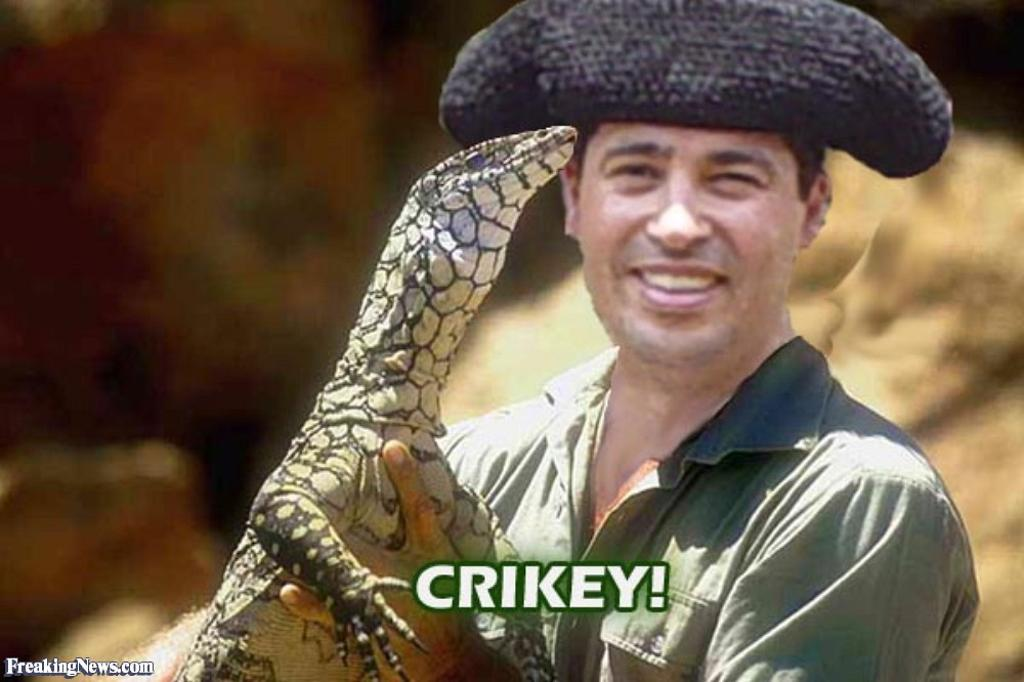face: (583, 127, 797, 367)
